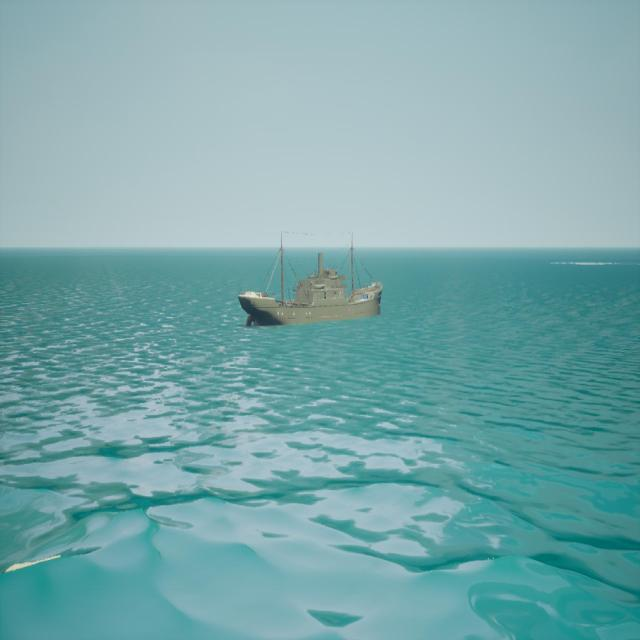fishing ship: (240, 233, 384, 328)
